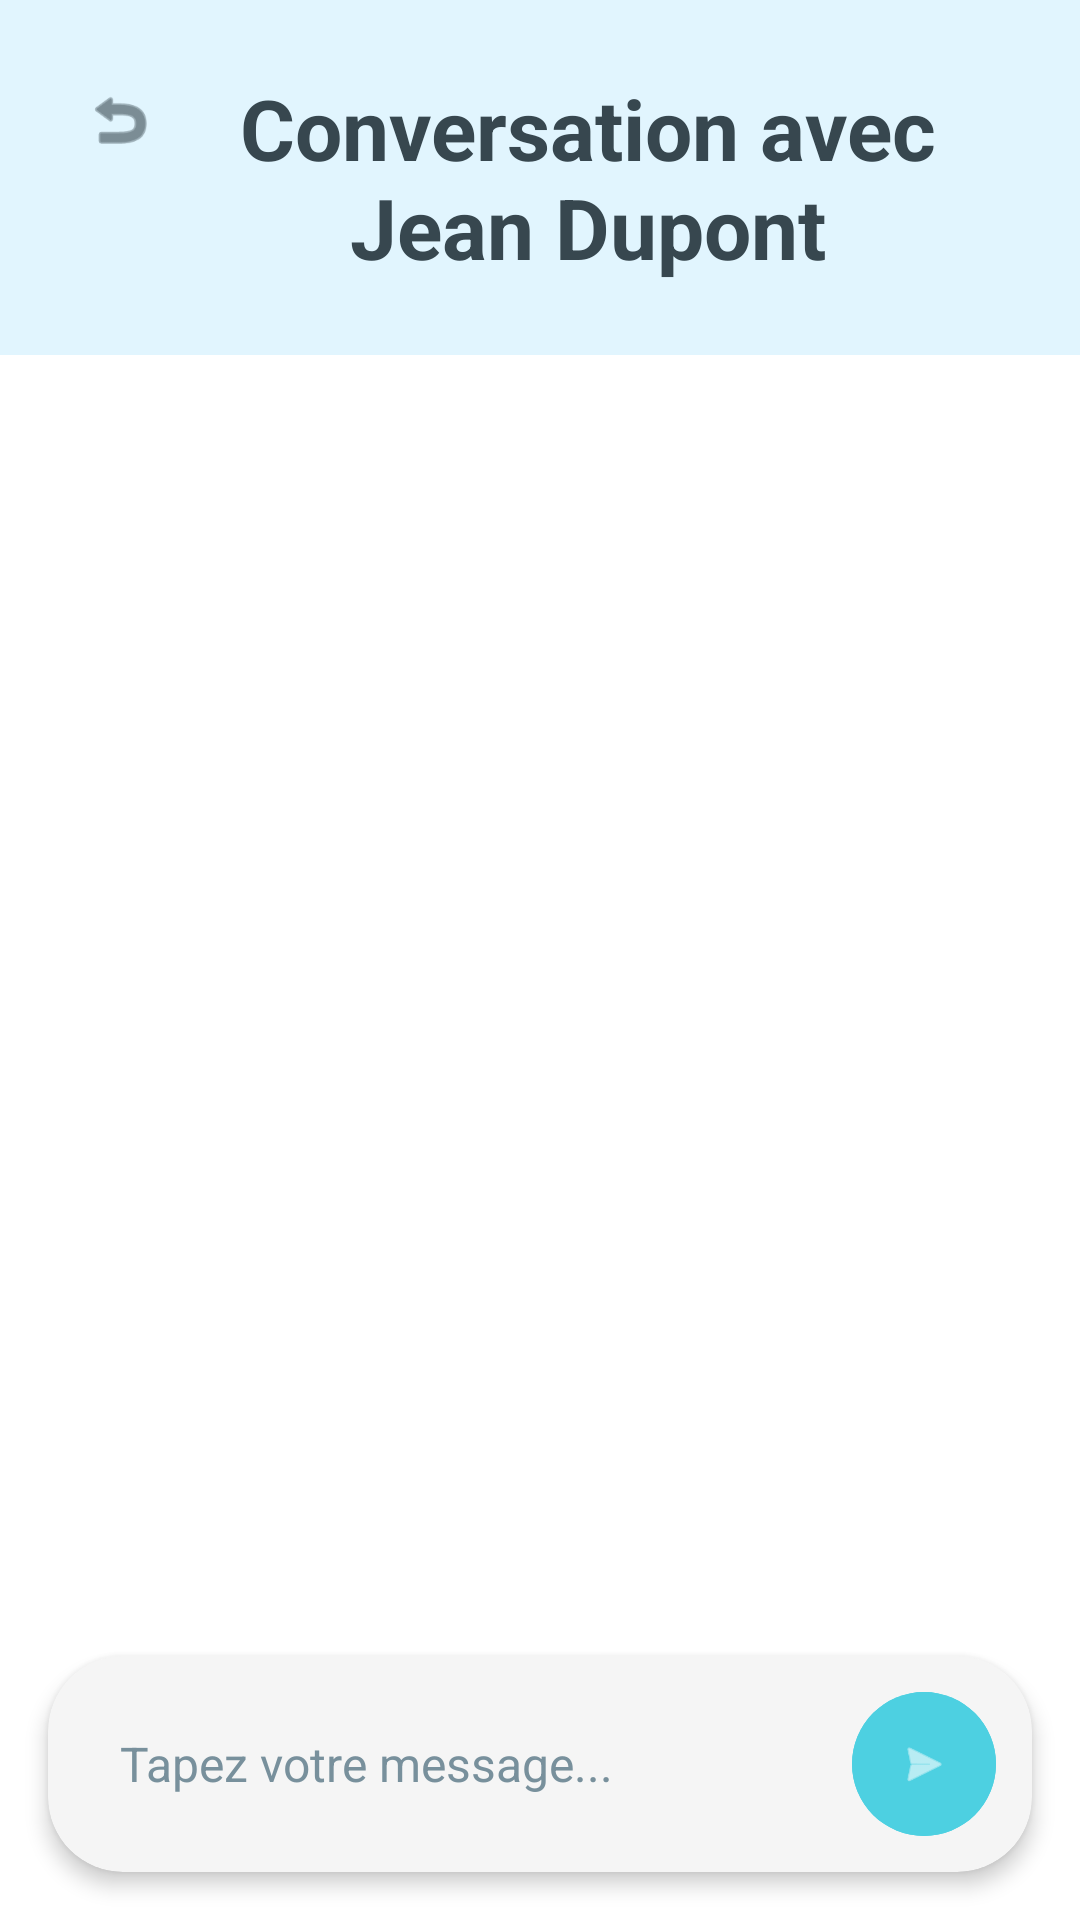

Icon click points for this 1080px×1920px phone screenshot, format [x,y]:
Retour: [121,120]
send: [924,1764]
